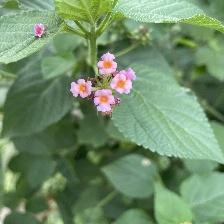common lanthana: (72, 55, 138, 115)
